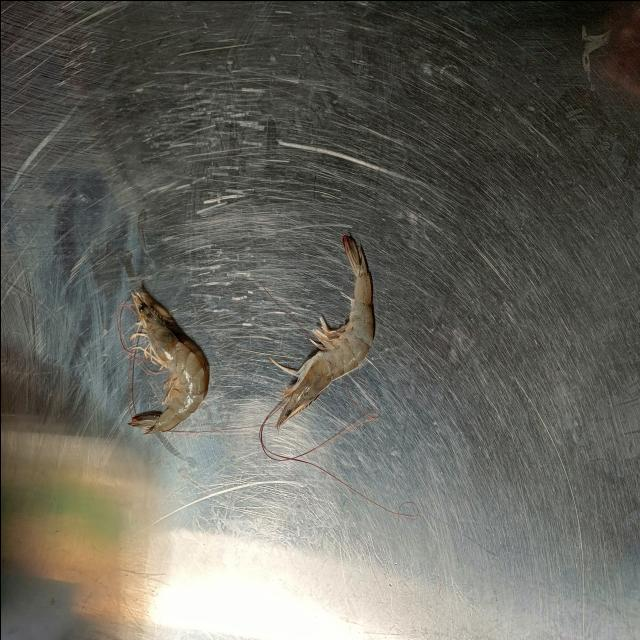shrimp: (274, 235, 374, 428), (129, 286, 209, 432)
